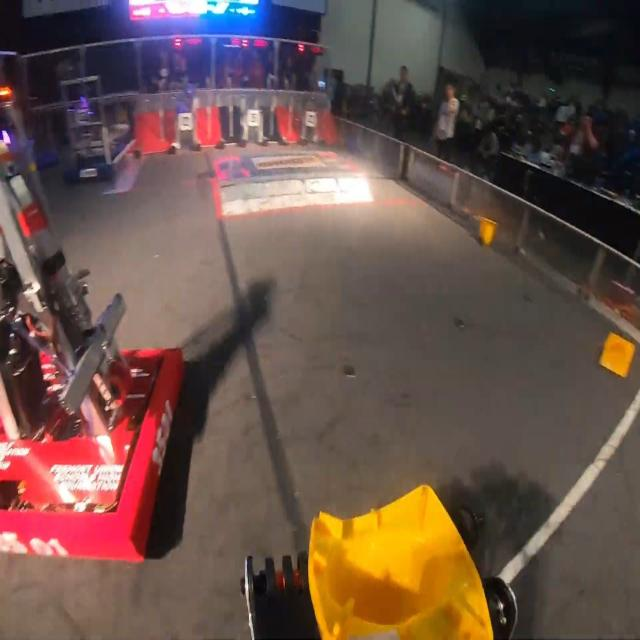robot: (0, 84, 184, 562), (56, 73, 126, 183)
